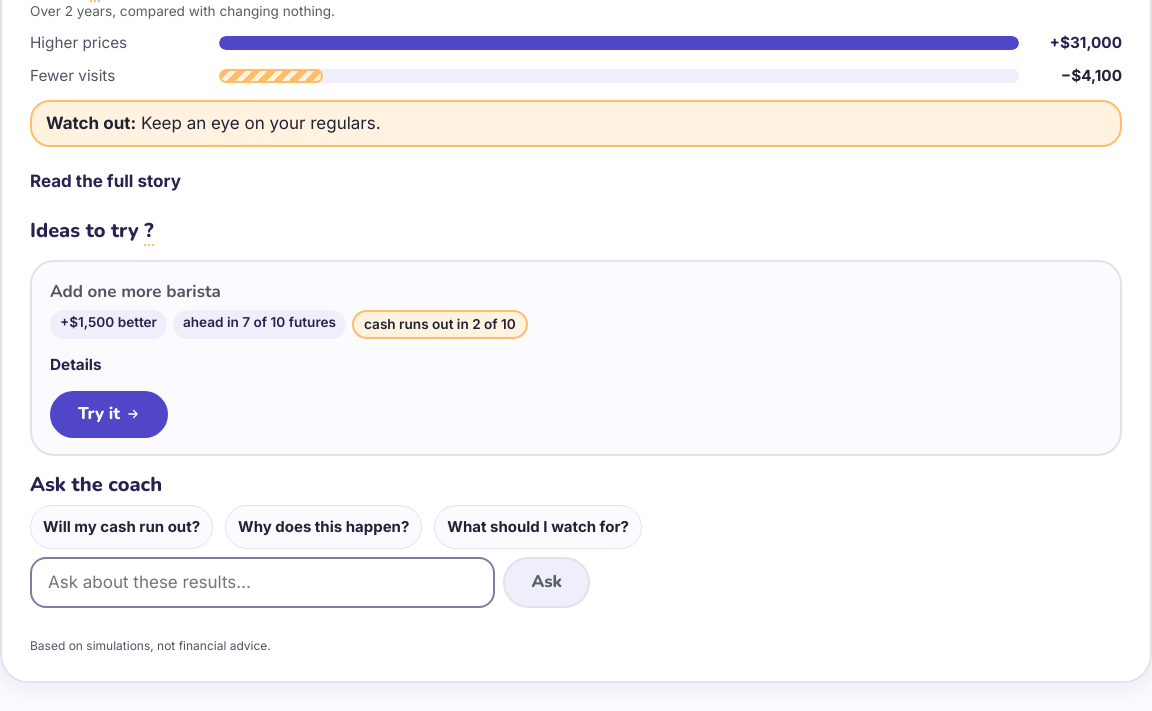
Test: CoachCard › shows a friendly one-line message with a retry link when a question fails
The width and height of the screenshot is (1152, 711).
(page scrolled)
Click the button "Will my cash run out?" at (122,527), box [30,505,213,549]
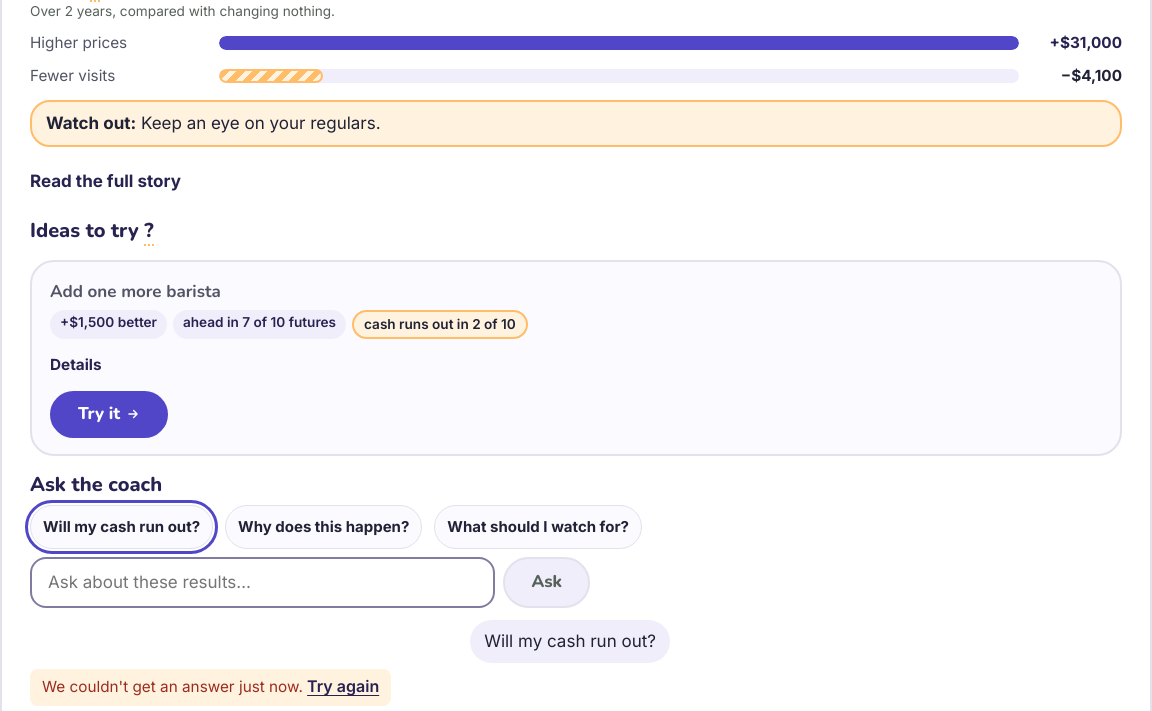
Expected: the button "Try again" is shown, [307,677,379,696]
